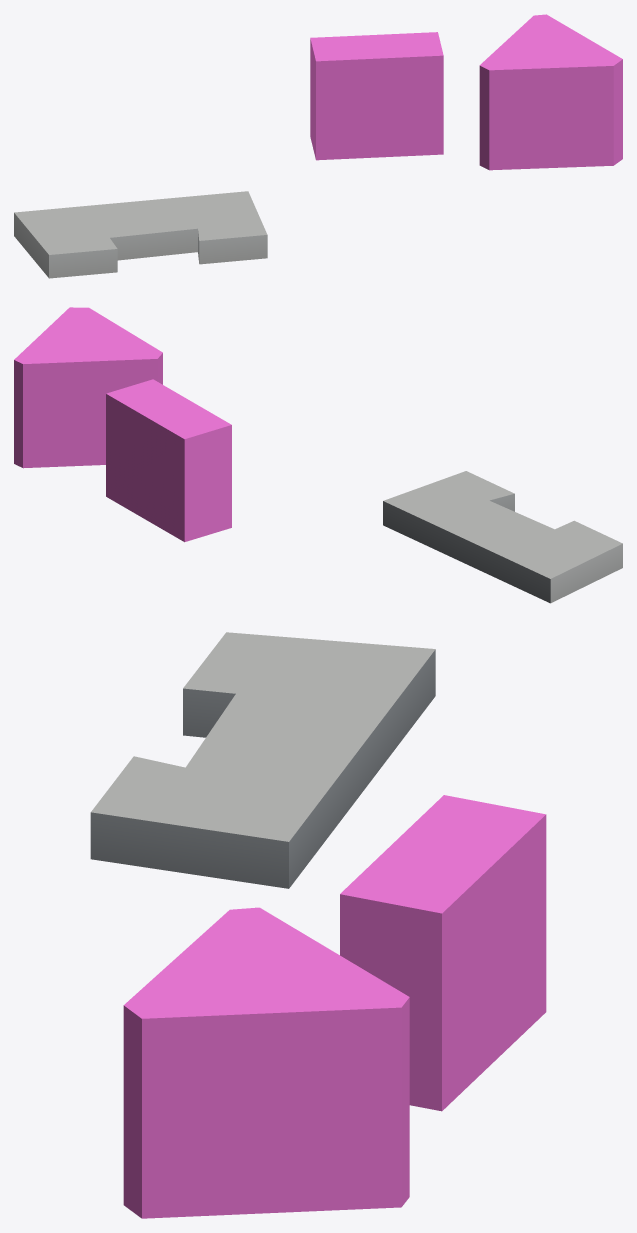
The model's file is bld_6_6.fbx.
3 renders of one model, top to bottom at view 1: azimuth 30°, elevation 25°; view 2: azimuth 150°, elevation 25°; view 3: azimuth 270°, elevation 25°, orthographic. The views are drawn at different scales.
Visible parts, largest first — view 1: bld_6_6_COL, bld_6_6_LOD0; view 2: bld_6_6_COL, bld_6_6_LOD0; view 3: bld_6_6_COL, bld_6_6_LOD0.
Part boxes in pixels (left/top/right/bottom): bld_6_6_COL: left=310, top=14, right=622, bottom=170; bld_6_6_LOD0: left=14, top=191, right=267, bottom=278; bld_6_6_COL: left=14, top=307, right=231, bottom=542; bld_6_6_LOD0: left=383, top=471, right=622, bottom=603; bld_6_6_COL: left=123, top=795, right=546, bottom=1218; bld_6_6_LOD0: left=90, top=632, right=435, bottom=888.
Size of what is drawn, in the model's own units: 275 by 47.43 by 97.96.
